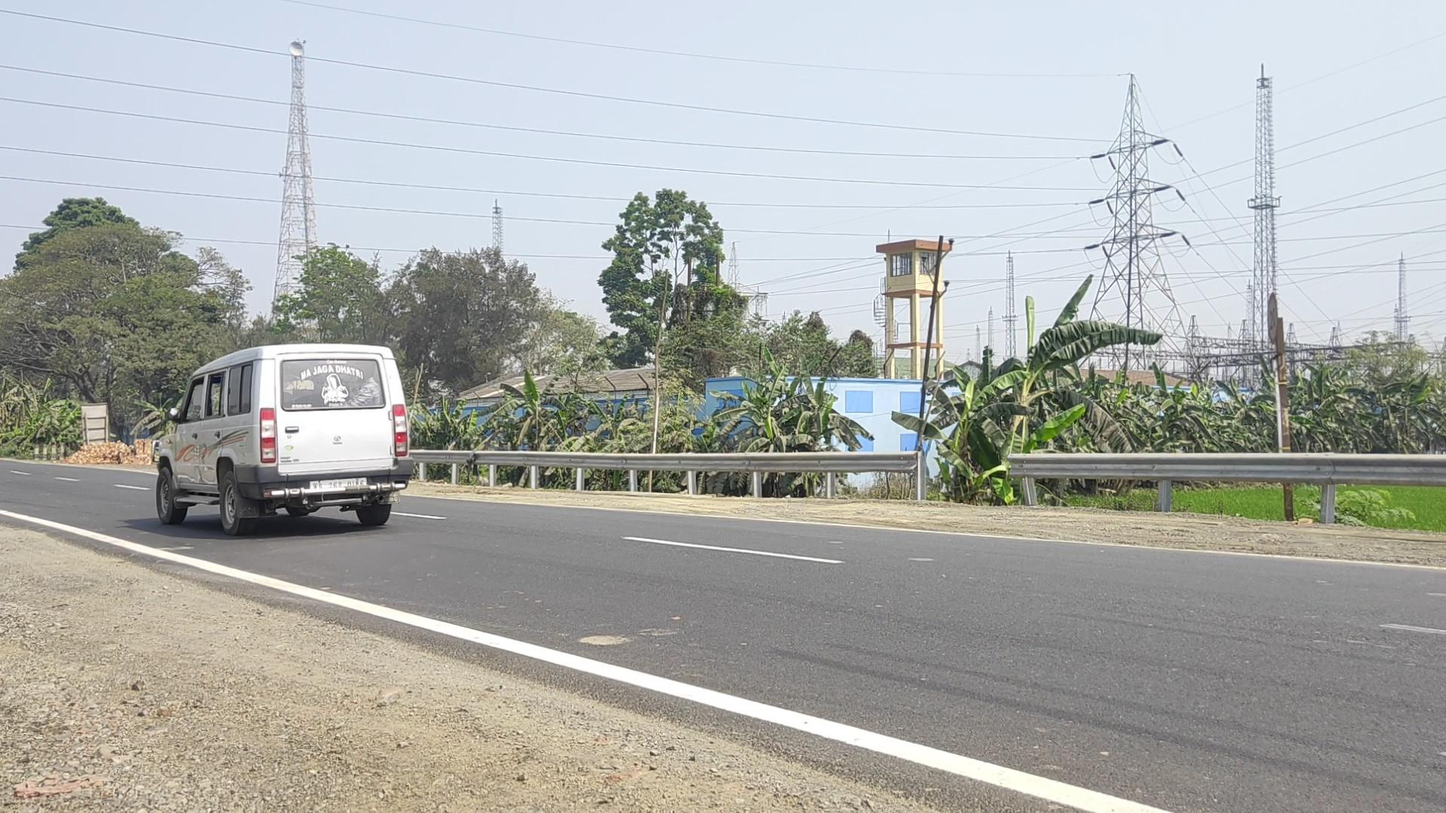car: (152, 342, 414, 537)
